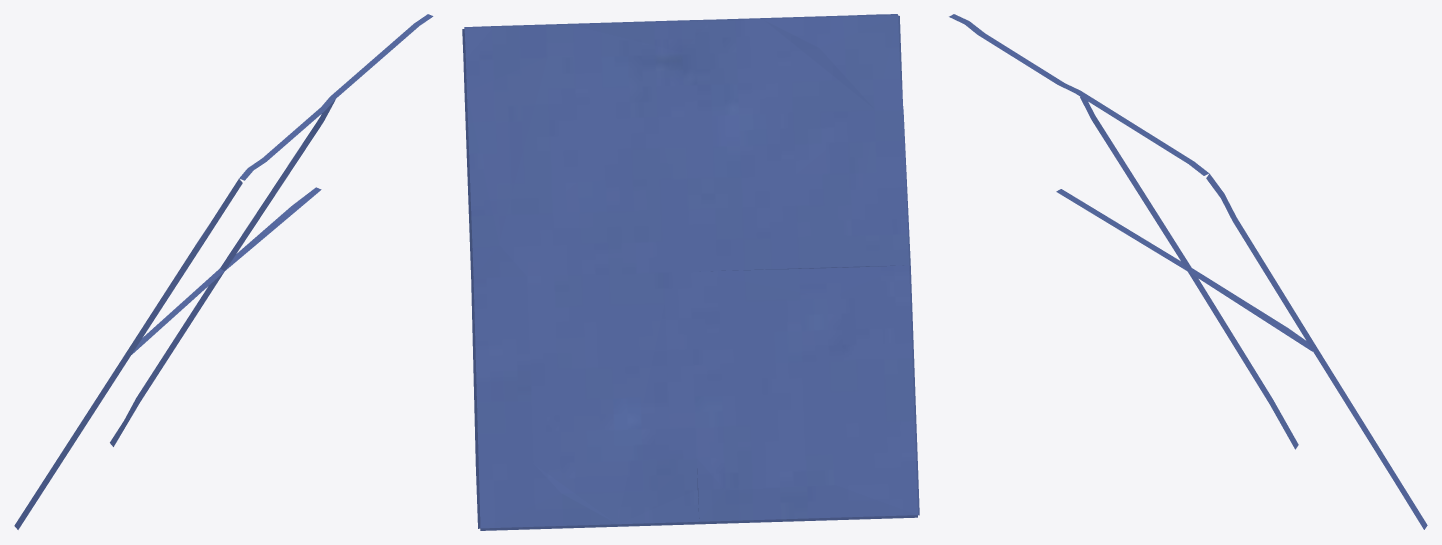
3 renders of one model, left to right at view 1: azimuth 30°, elevation 25°; view 2: azimuth 150°, elevation 25°; view 3: azimuth 270°, elevation 25°, orthographic. The views are drawn at different scales.
Size of the model in its own units: 79009 by 68787 by 71357.
Materials: 1 (1 with a texture image).
